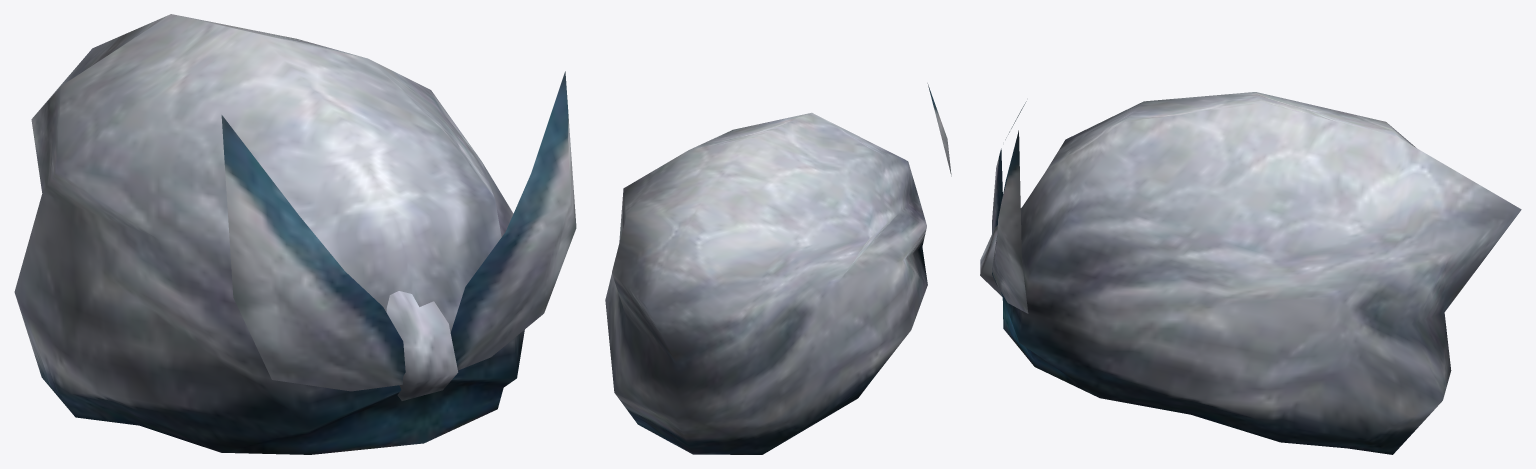
File: clothes_01_ha.glb
The picture shows the model from 3 angles, left to right: view 1: azimuth 30°, elevation 25°; view 2: azimuth 150°, elevation 25°; view 3: azimuth 270°, elevation 25°; orthographic projection. The views are drawn at different scales.
Parts seen in each view (by area): view 1: clothes_01_ha; view 2: clothes_01_ha; view 3: clothes_01_ha.
Boxes of the visible parts, x1,y1,x2,y2 form: clothes_01_ha: [14, 14, 576, 454]; clothes_01_ha: [605, 83, 951, 454]; clothes_01_ha: [980, 92, 1521, 454].
Size of the model in its own units: 0.1569 by 0.1738 by 0.2382.
1 material, 1 textured.
